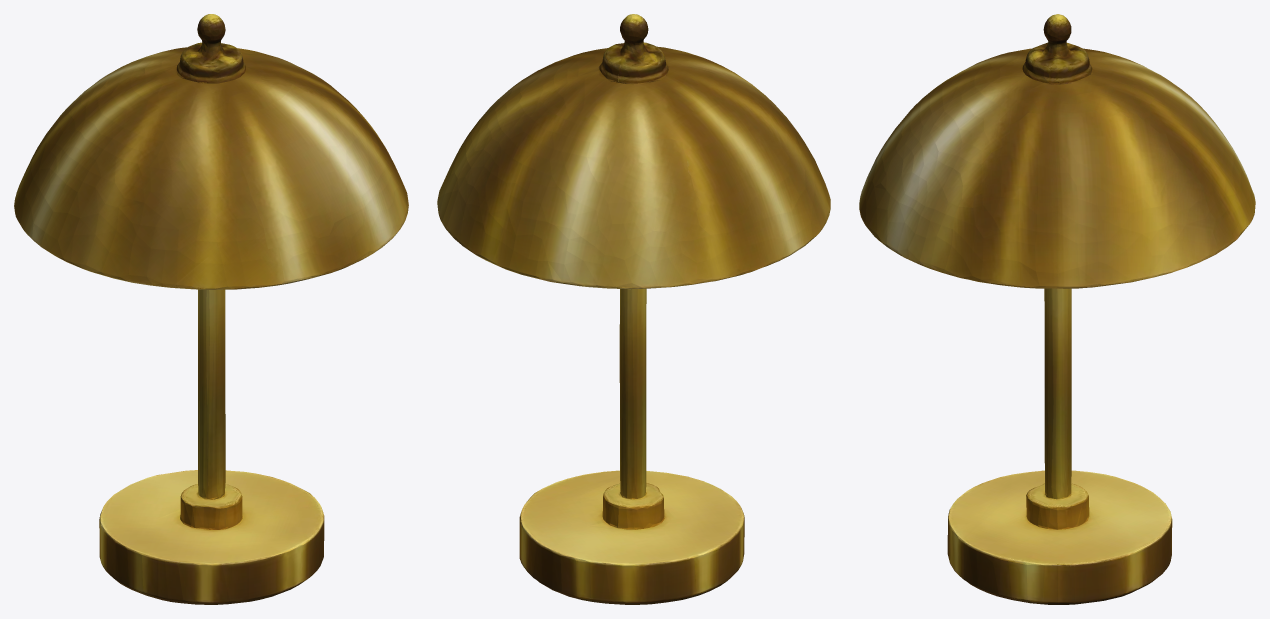
3 renders of one model, left to right at view 1: azimuth 30°, elevation 25°; view 2: azimuth 150°, elevation 25°; view 3: azimuth 270°, elevation 25°, orthographic.
Parts seen in each view (by area): view 1: geometry_0; view 2: geometry_0; view 3: geometry_0.
Boxes of the visible parts, box(x1,y1,x2,y2) form: geometry_0: box(14, 14, 408, 604); geometry_0: box(437, 14, 830, 604); geometry_0: box(859, 14, 1255, 604).
Bounding box in the file's own units: 0.6524 × 0.9963 × 0.6566.
Materials: 1 (1 with a texture image).
